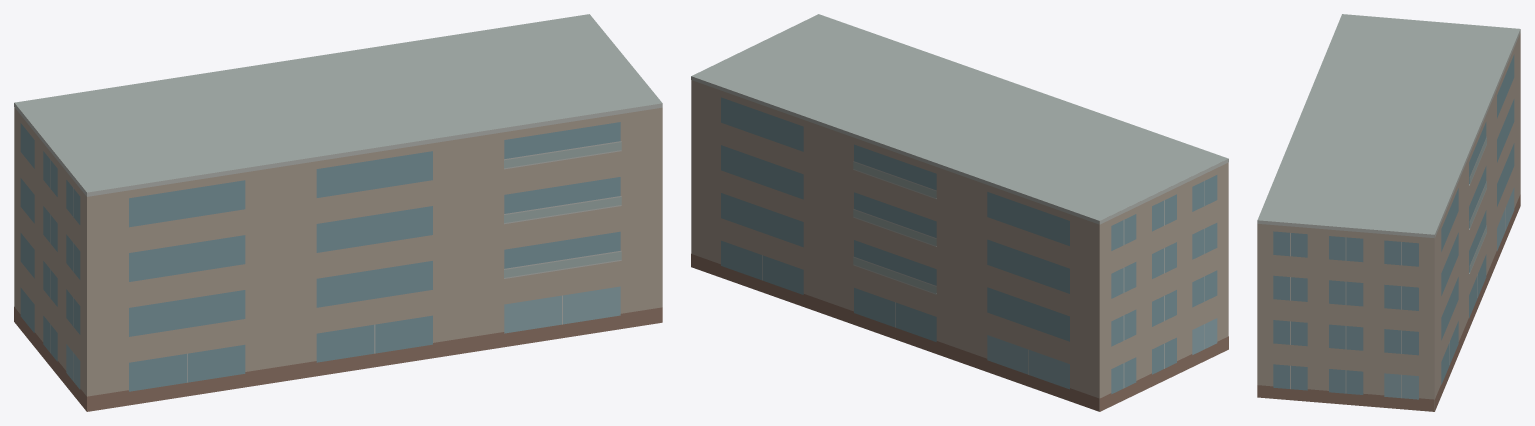
File: survey-upis-32529276.glb
3 renders of one model, left to right at view 1: azimuth 30°, elevation 25°; view 2: azimuth 150°, elevation 25°; view 3: azimuth 270°, elevation 25°, orthographic. The views are drawn at different scales.
Visible parts, largest first — view 1: survey-upis-32529276.tmp; view 2: survey-upis-32529276.tmp; view 3: survey-upis-32529276.tmp.
Boxes of the visible parts, x1=… form: survey-upis-32529276.tmp: x1=14, y1=14, x2=662, y2=411; survey-upis-32529276.tmp: x1=691, y1=14, x2=1228, y2=411; survey-upis-32529276.tmp: x1=1257, y1=14, x2=1520, y2=411.
Size of the model in its own units: 33.42 by 12.5 by 16.84.
